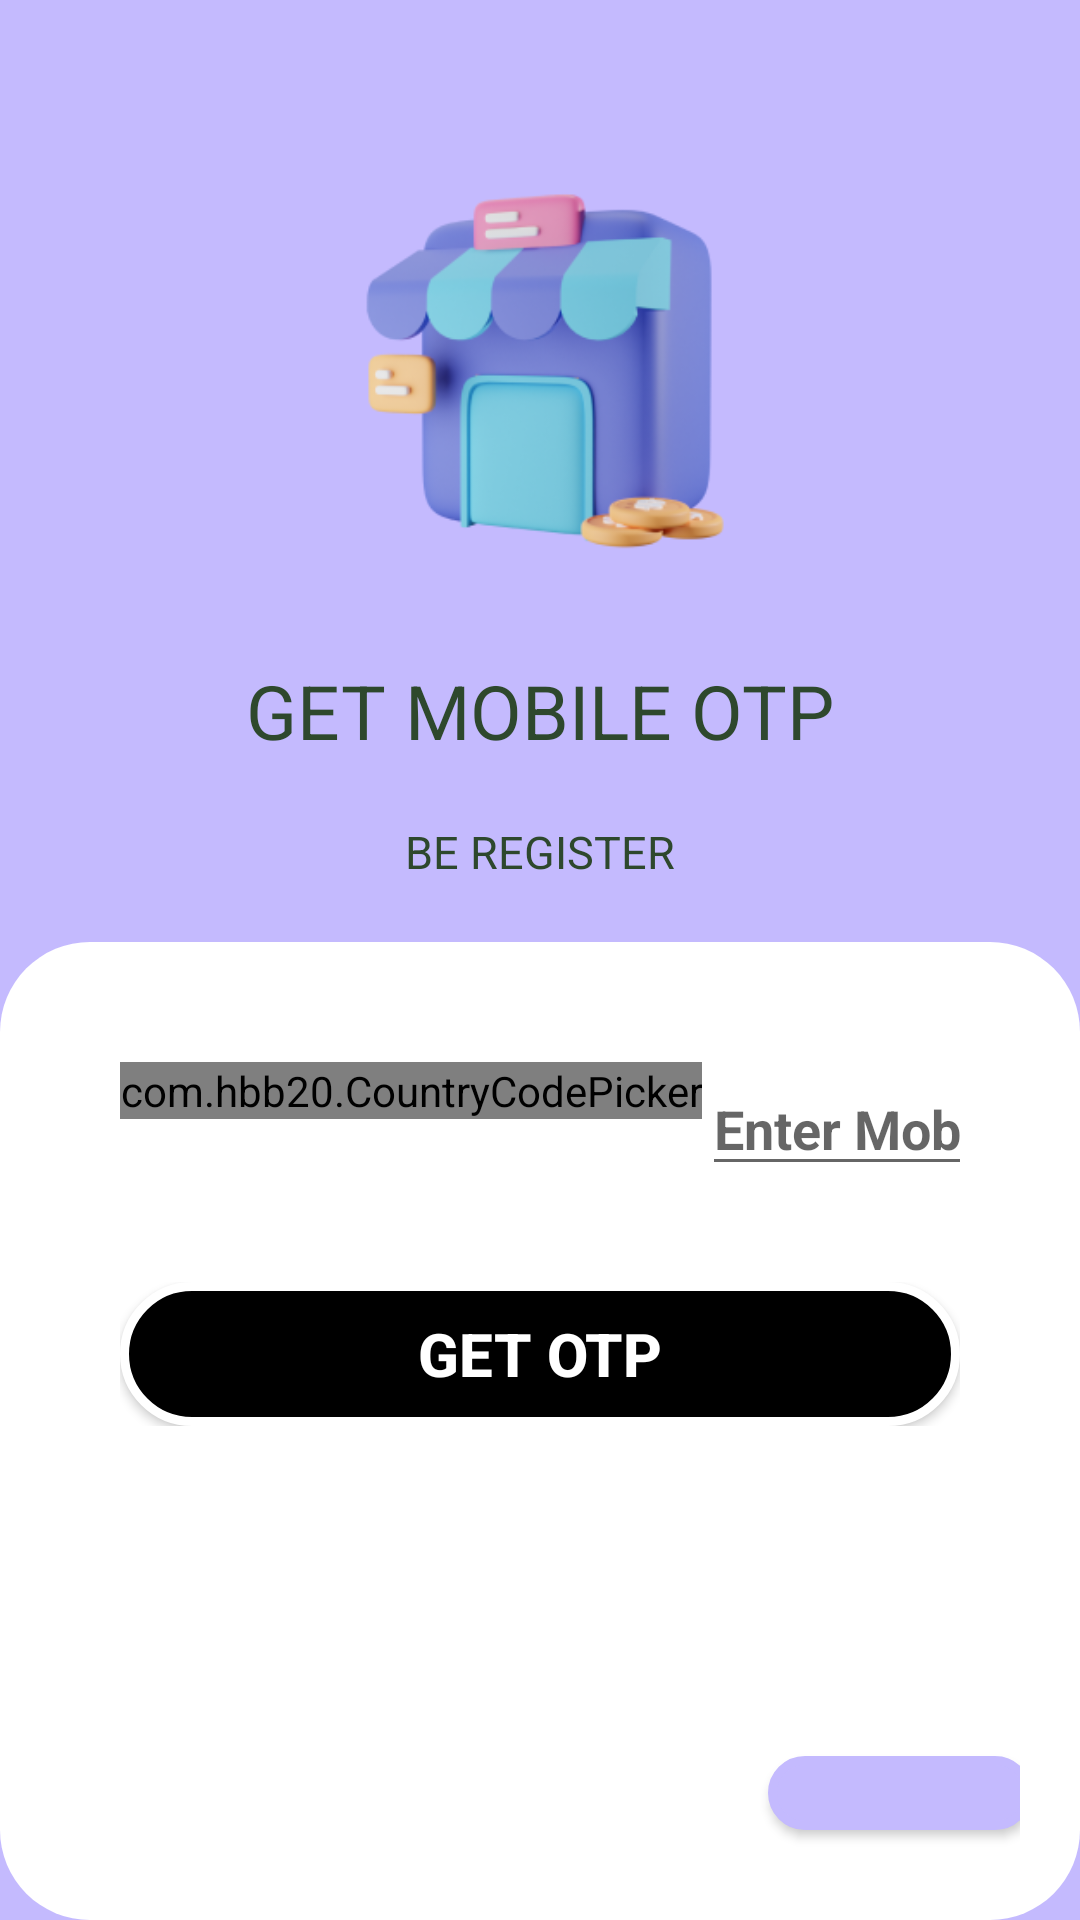

Icon bounding boxes for this 1080×1920 phone screenshot, format (x1,y1,x2,y2):
logimg: (367,194,724,548)
